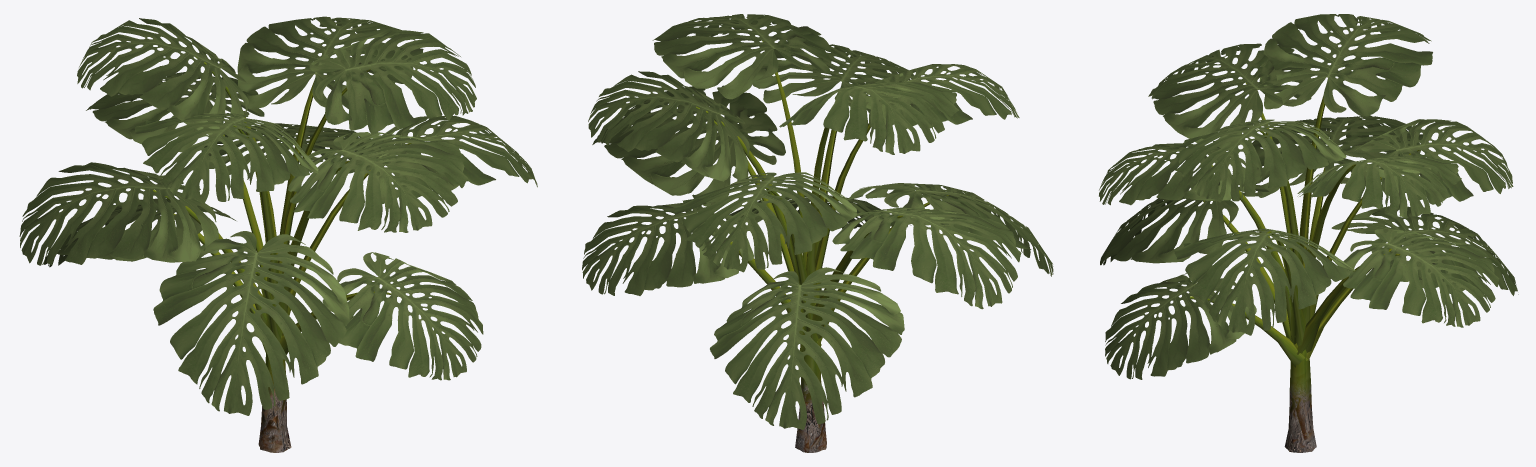
Rendered from monstera.glb.
3 views of the same model, side by side, from view 1: azimuth 30°, elevation 25°; view 2: azimuth 150°, elevation 25°; view 3: azimuth 270°, elevation 25° (orthographic). The views are drawn at different scales.
Parts seen in each view (by area): view 1: Tree_1, Tree_2, Tree_0; view 2: Tree_1, Tree_2, Tree_0; view 3: Tree_1, Tree_2, Tree_0.
Boxes of the visible parts, box(x1,y1,x2,y2) form: Tree_1: box(19, 16, 537, 415); Tree_2: box(141, 57, 411, 354); Tree_0: box(258, 351, 291, 452); Tree_1: box(582, 14, 1053, 429); Tree_2: box(696, 40, 949, 351); Tree_0: box(795, 342, 826, 452); Tree_1: box(1099, 14, 1518, 379); Tree_2: box(1190, 83, 1419, 367); Tree_0: box(1284, 343, 1316, 452).
Bounding box in the file's own units: 1.3 × 1.09 × 1.12.
Materials: 3 (3 with a texture image).
